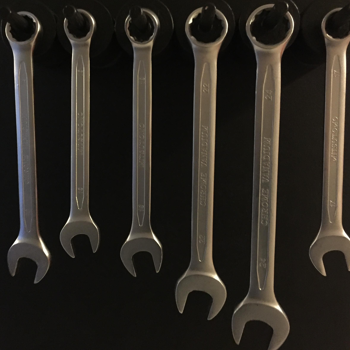bottom: (229, 294, 292, 350), (173, 268, 227, 321), (305, 228, 350, 280), (5, 237, 52, 285), (118, 233, 164, 278), (57, 217, 101, 258)
top: (243, 2, 295, 53), (183, 4, 230, 50), (2, 8, 44, 49), (122, 8, 161, 47), (61, 9, 100, 44), (317, 5, 350, 45)
